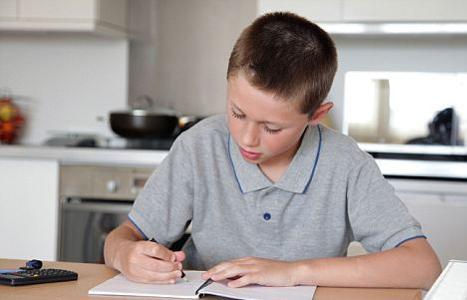person: (105, 13, 443, 290)
